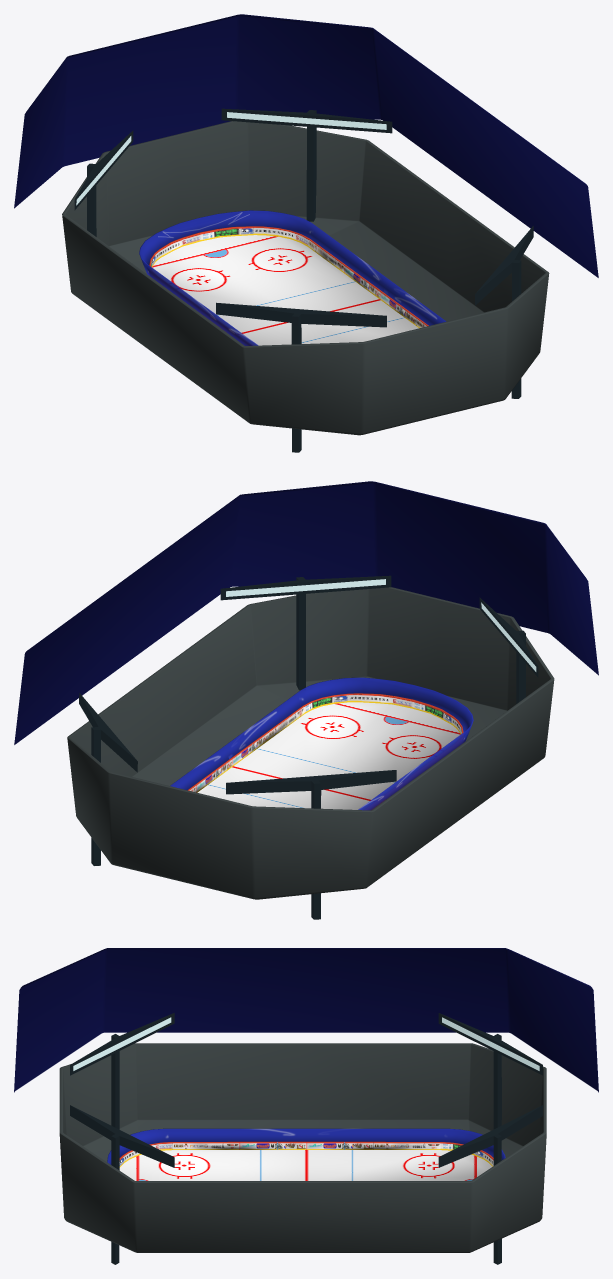
File: field.glb
3 renders of one model, top to bottom at view 1: azimuth 30°, elevation 25°; view 2: azimuth 150°, elevation 25°; view 3: azimuth 270°, elevation 25°, orthographic. The views are drawn at different scales.
Visible parts, largest first — view 1: stands, stands.001, field, Cube.007, fieldglass; view 2: stands, stands.001, field, Cube.007, fieldglass; view 3: stands, stands.001, field, Cube.007, fieldglass.
Part boxes in pixels (box(x1,y1,x2,y2)): stands: box(62, 121, 549, 435); stands.001: box(14, 14, 598, 277); field: box(149, 226, 428, 345); Cube.007: box(74, 108, 533, 452); fieldglass: box(139, 210, 446, 345); stands: box(67, 587, 554, 899); stands.001: box(14, 481, 598, 744); field: box(188, 693, 463, 809); Cube.007: box(79, 575, 538, 919); fieldglass: box(170, 677, 473, 810); stands: box(59, 1043, 546, 1252); stands.001: box(14, 948, 598, 1092); field: box(119, 1141, 493, 1180); Cube.007: box(70, 1013, 542, 1264); fieldglass: box(107, 1128, 505, 1164).
Size of the model in its own units: 86.13 by 49.86 by 127.
6 materials, 4 textured.
